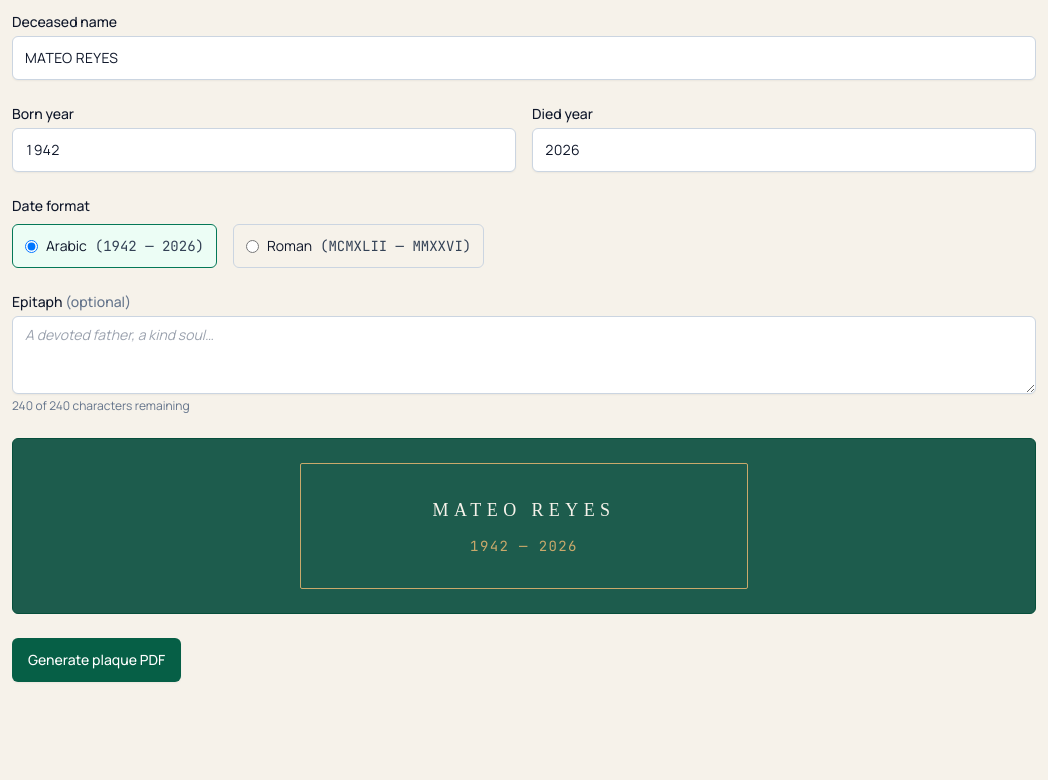
PlaqueForm — date format toggle › re-renders the live preview when the operator toggles arabic → roman
The width and height of the screenshot is (1048, 780).
expect the text with test id "plaque-form-preview-dates" reads "1942 — 2026": met, box left=470, top=537, right=578, bottom=555
What coordinates should you click on to do the following:
click the radio button with test id "plaque-form-format-roman"
I would click on:
 (252, 246)
Its box is left=246, top=240, right=259, bottom=252.
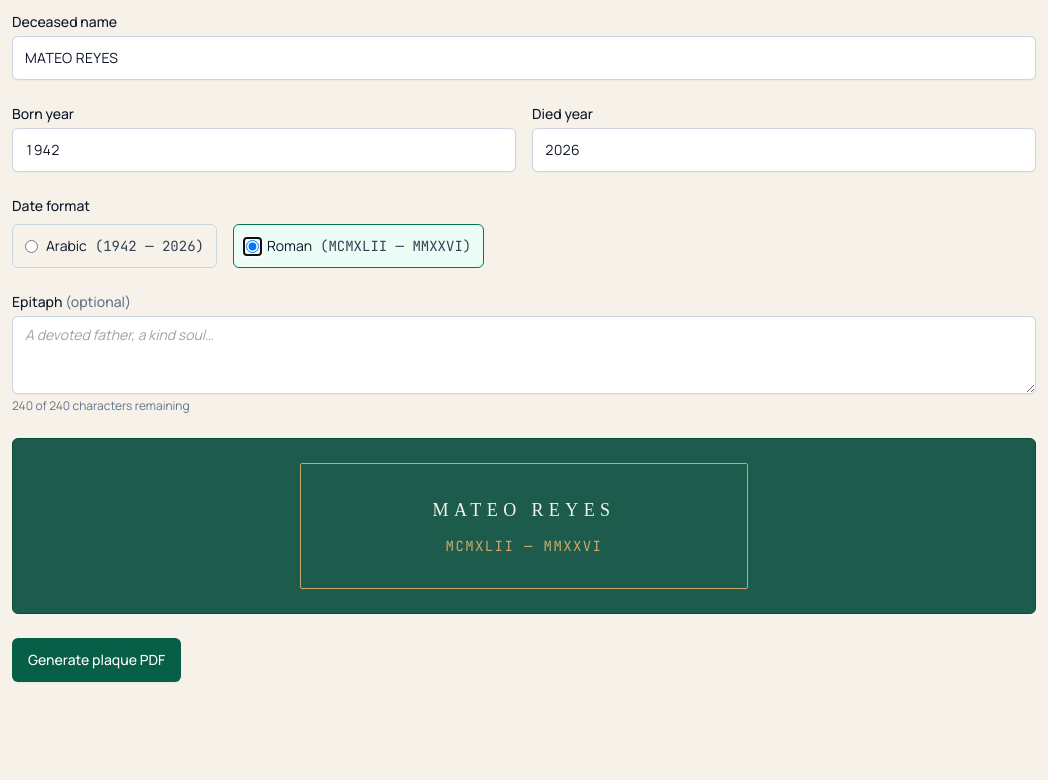
expect the text with test id "plaque-form-preview-dates" reads "MCMXLII — MMXXVI": met, box left=446, top=537, right=602, bottom=555
